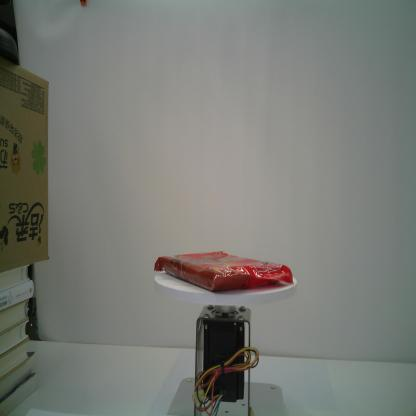Dessert: (154, 252, 294, 292)
